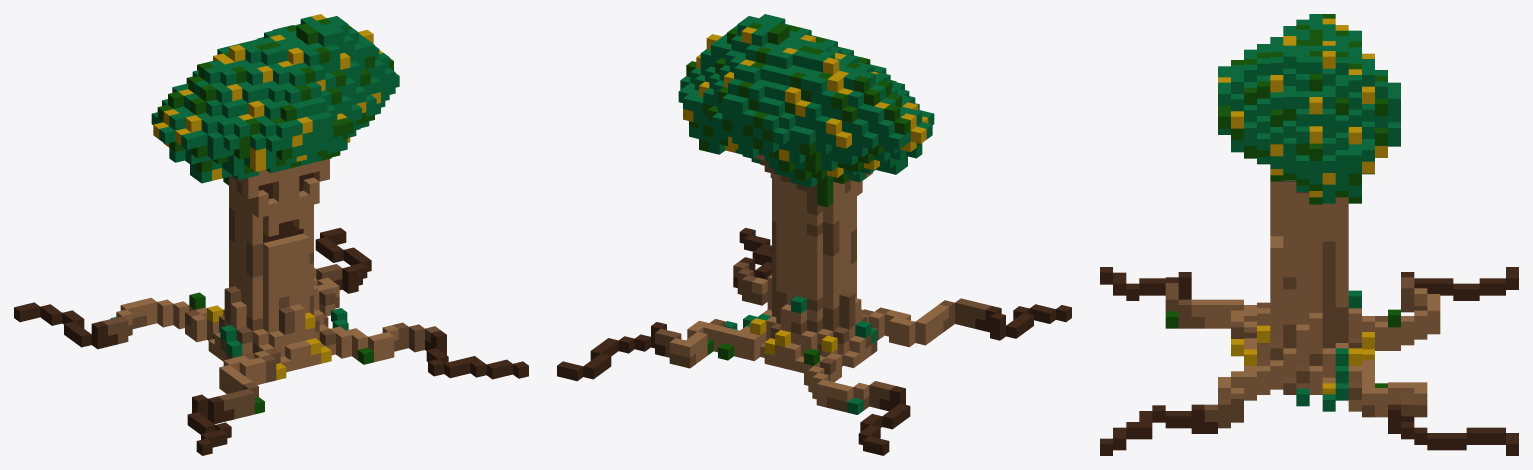
File: Andres_Santiago_Duque_García_fase_4.obj
The picture shows the model from 3 angles, left to right: view 1: azimuth 30°, elevation 25°; view 2: azimuth 150°, elevation 25°; view 3: azimuth 270°, elevation 25°; orthographic projection. The views are drawn at different scales.
Parts seen in each view (by area): view 1: Andres_Santiago_Duque_García_fase_4; view 2: Andres_Santiago_Duque_García_fase_4; view 3: Andres_Santiago_Duque_García_fase_4.
Part boxes in pixels (box(x1,y1,x2,y2)): Andres_Santiago_Duque_García_fase_4: box(14, 14, 528, 455); Andres_Santiago_Duque_García_fase_4: box(557, 14, 1071, 455); Andres_Santiago_Duque_García_fase_4: box(1100, 14, 1518, 455).
Size of the model in its own units: 32 by 29 by 32.
1 material, 1 textured.
